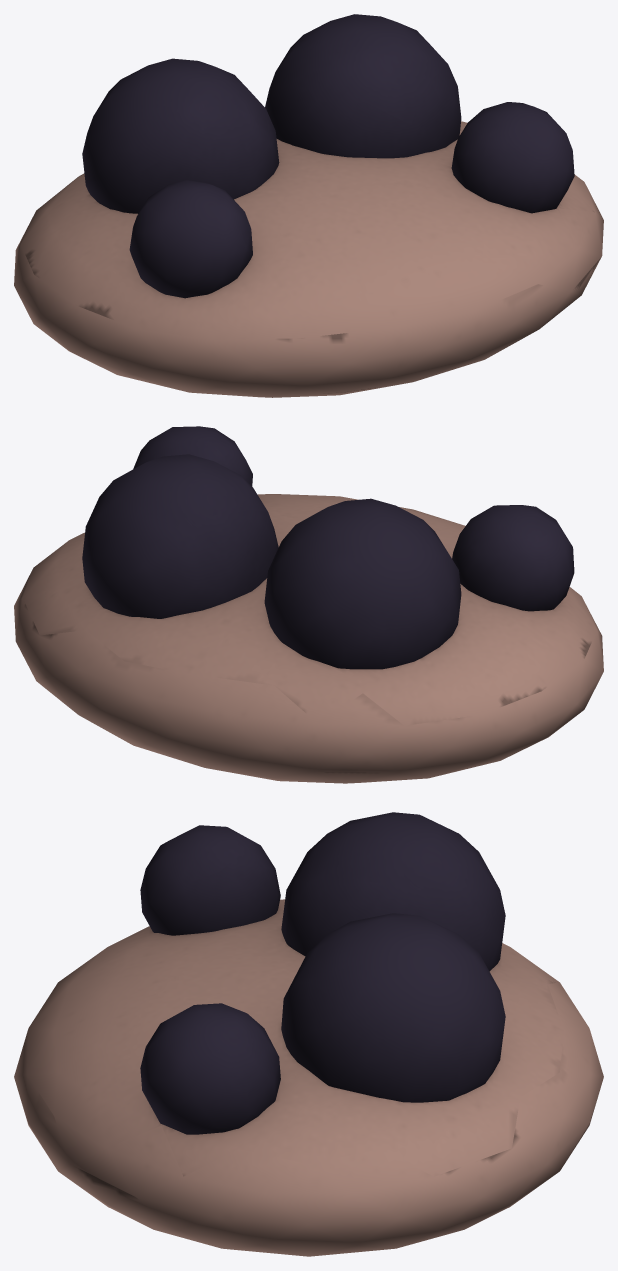
Rendered from cpart_eye_cluster.glb.
The picture shows the model from 3 angles, top to bottom: view 1: azimuth 30°, elevation 25°; view 2: azimuth 150°, elevation 25°; view 3: azimuth 270°, elevation 25°; orthographic projection. The views are drawn at different scales.
Visible parts, largest first — view 1: EyeCluster, Eyes; view 2: EyeCluster, Eyes; view 3: EyeCluster, Eyes.
Boxes of the visible parts, left/top/right/bottom form: EyeCluster: left=14, top=121, right=603, bottom=397; Eyes: left=82, top=14, right=574, bottom=298; EyeCluster: left=14, top=494, right=603, bottom=783; Eyes: left=82, top=426, right=574, bottom=669; EyeCluster: left=14, top=899, right=603, bottom=1256; Eyes: left=140, top=812, right=505, bottom=1134.
Bounding box in the file's own units: 0.1 × 0.0469 × 0.084.
2 materials, 2 textured.
